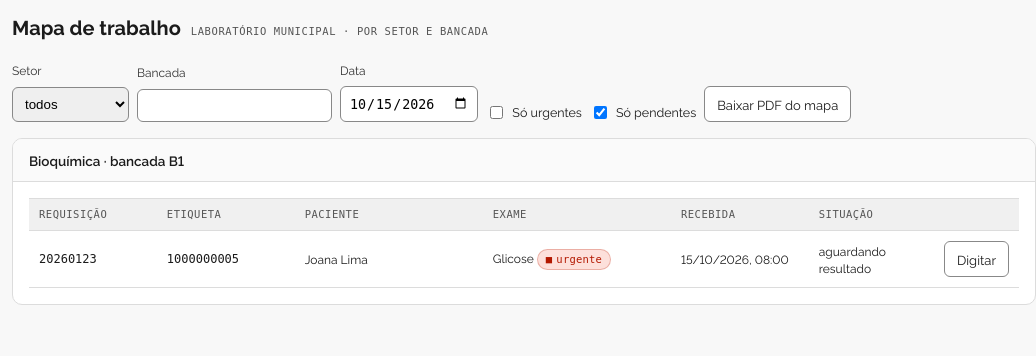
Test case: LabWorklist › exame que sumiu avisa para atualizar o mapa
Click the button "Digitar": (976, 259) [944,241,1009,277]
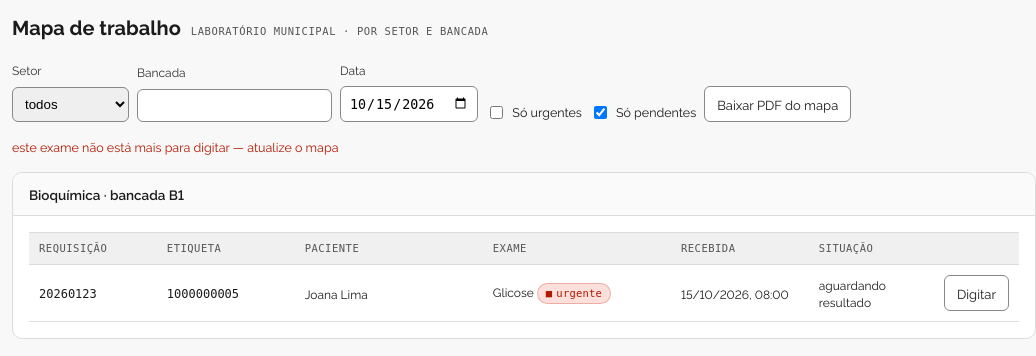
Expected: the text "este exame não está mais para digitar — atualize o mapa" is shown, [12,138,338,155]
